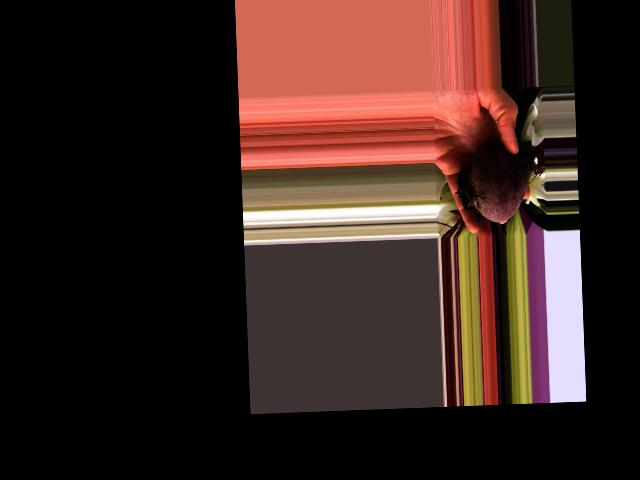beet: (453, 141, 547, 224)
